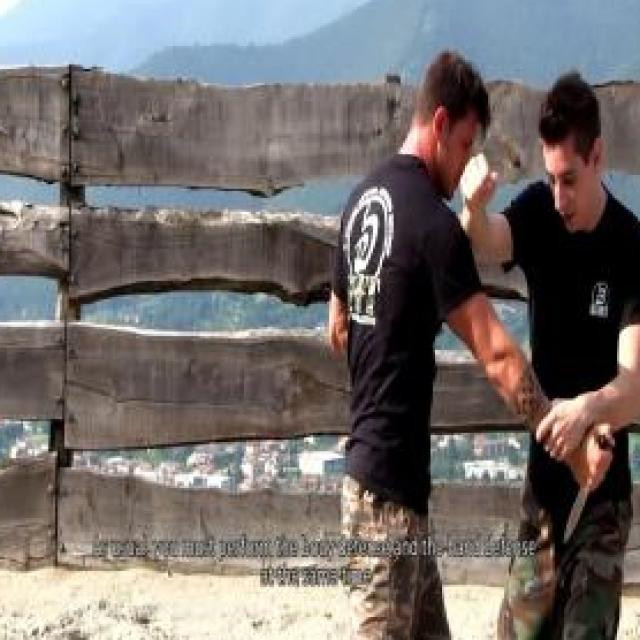knife: (559, 419, 616, 550)
